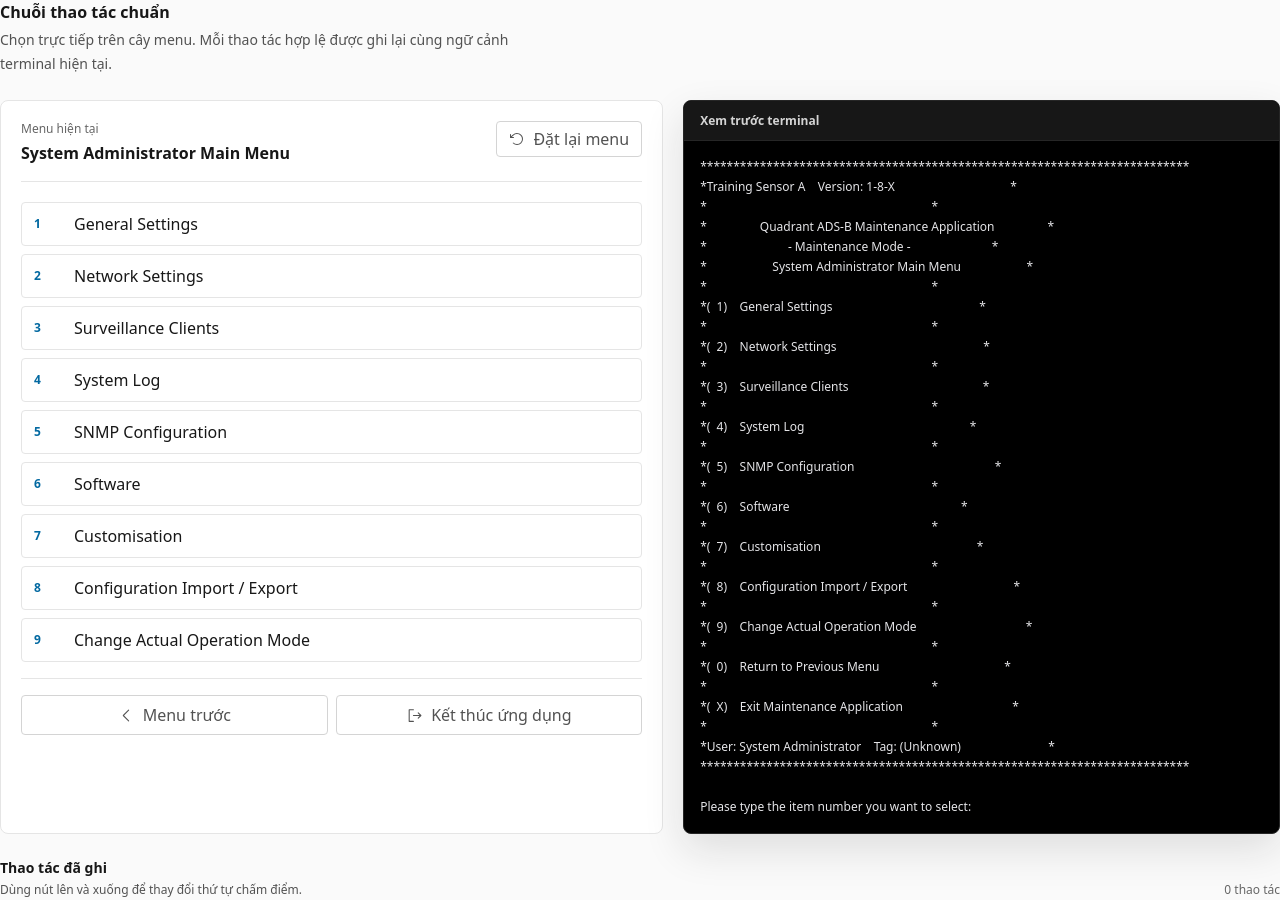
Scenario: ActionBuilder › records menu actions from the TerminalEngine context
Check: the text "0 thao tác" is shown, box x1=1224 y1=882 x2=1279 y2=898
Click the button "1 General Settings".
click(136, 224)  # box x1=21 y1=202 x2=642 y2=246
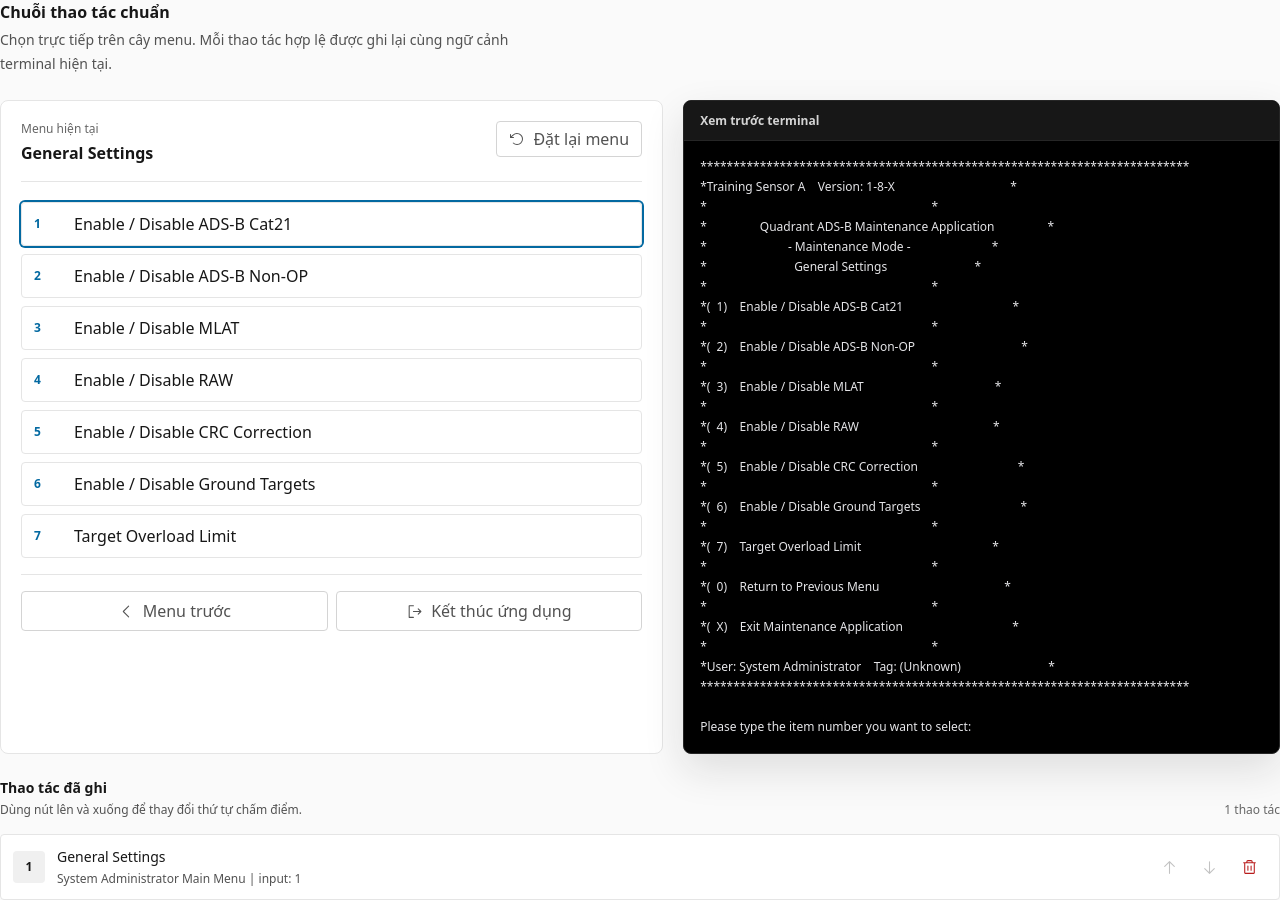
Check: the heading "General Settings" is shown, box x1=21 y1=141 x2=153 y2=165
Check: the text "1 thao tác" is shown, box x1=1224 y1=802 x2=1279 y2=818
Click the button "1 Enable / Disable ADS-B Cat21".
click(183, 224)  # box x1=21 y1=202 x2=642 y2=246
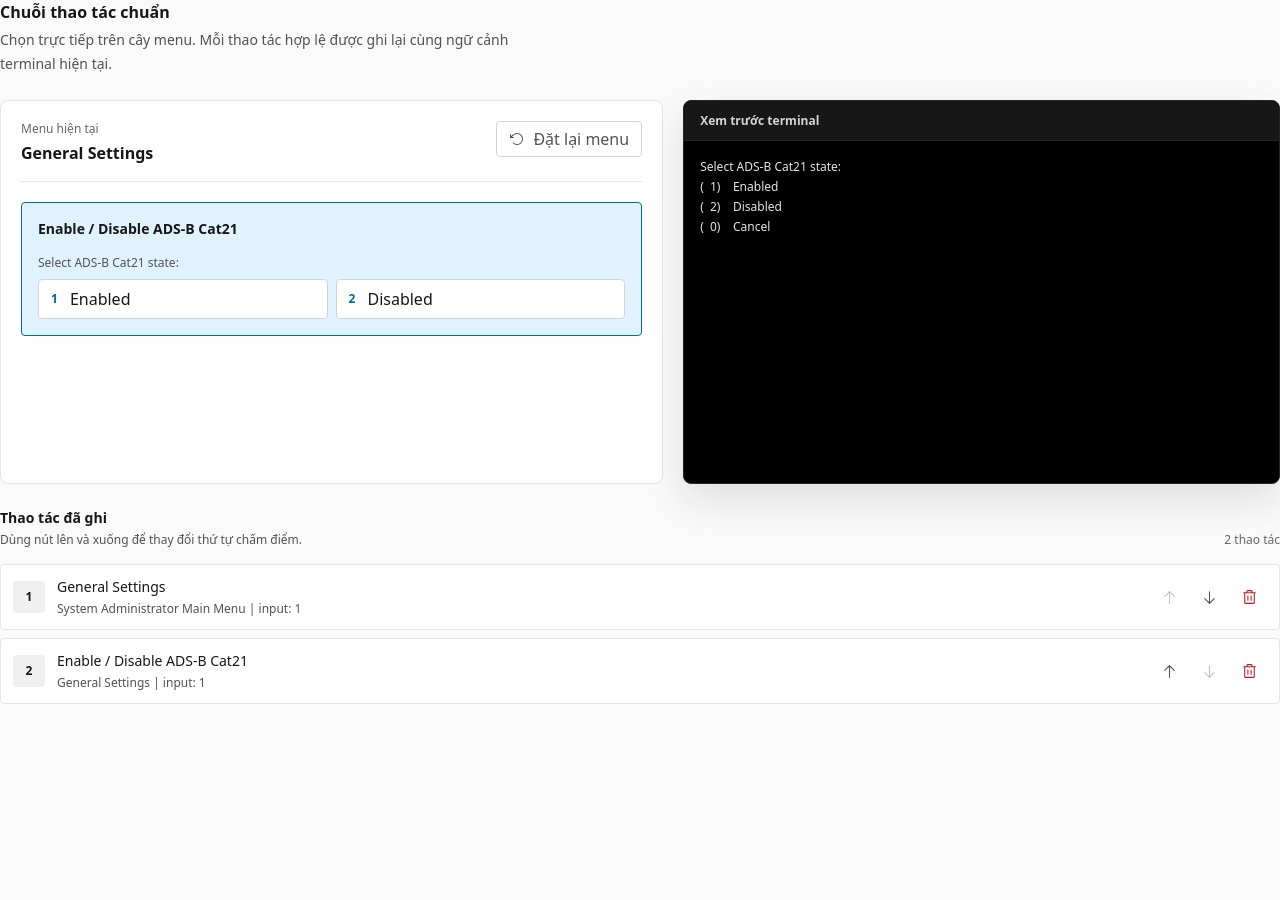
Click the button "1 Enabled".
click(100, 299)  # box x1=38 y1=279 x2=328 y2=319
(page scrolled)
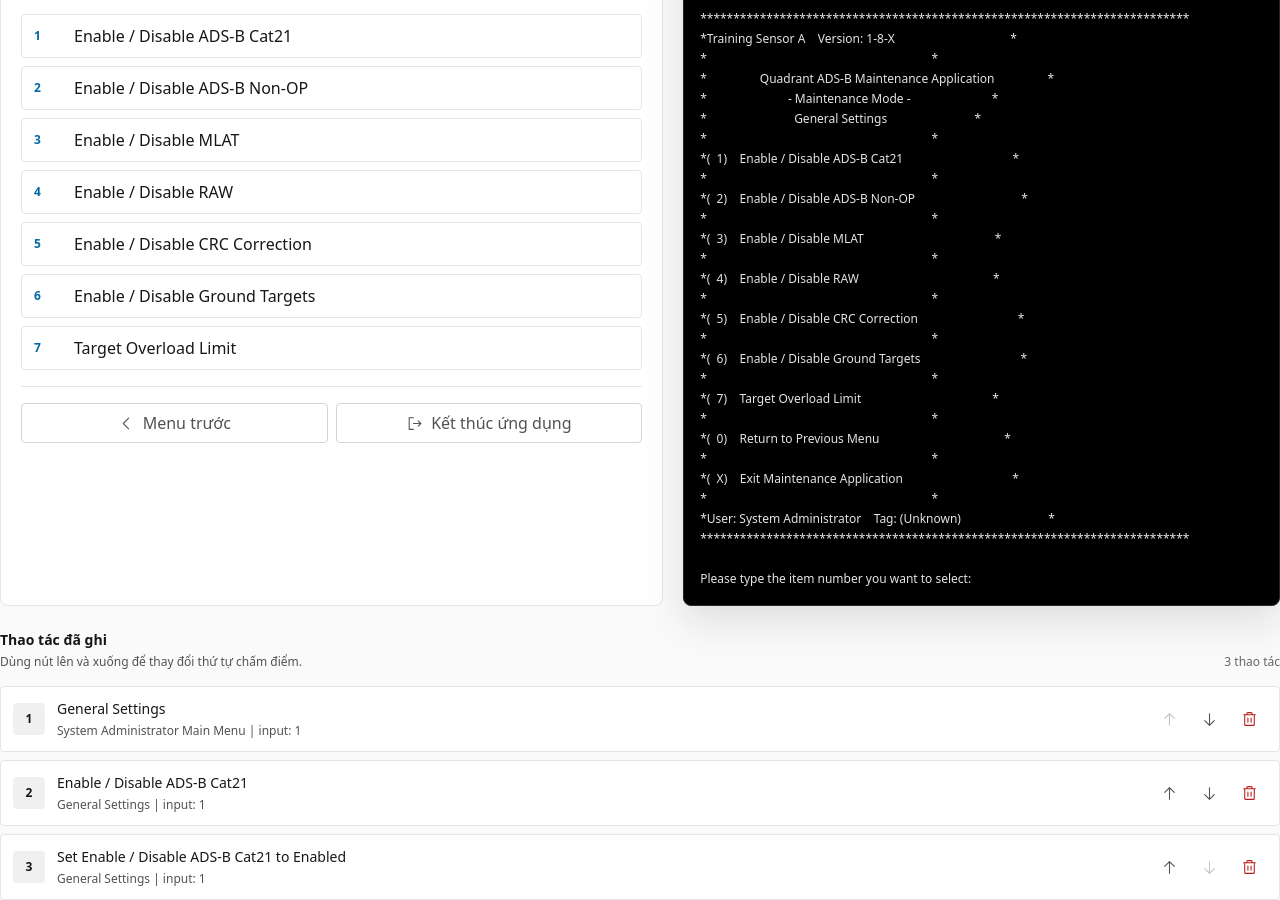
Check: the text "3 thao tác" is shown, box x1=1224 y1=654 x2=1279 y2=670
Check: the text "Set Enable / Disable ADS-B Cat21 to Enabled" is shown, box x1=57 y1=847 x2=346 y2=866
